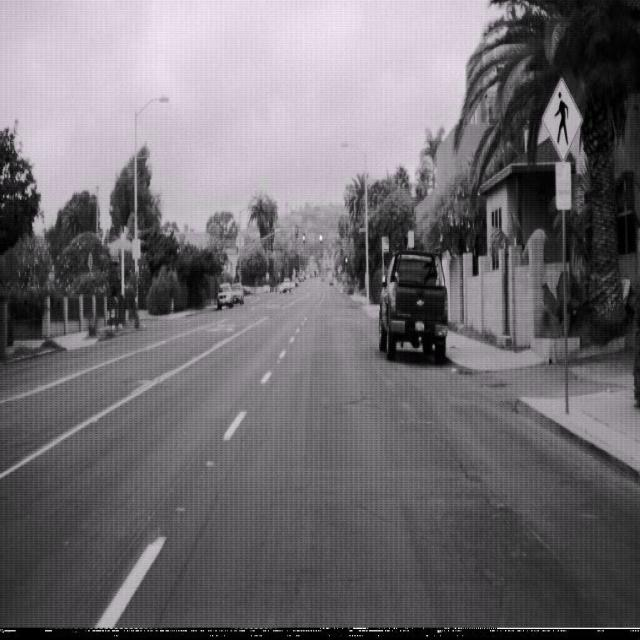pedestrianCrossing: (541, 76, 583, 162)
